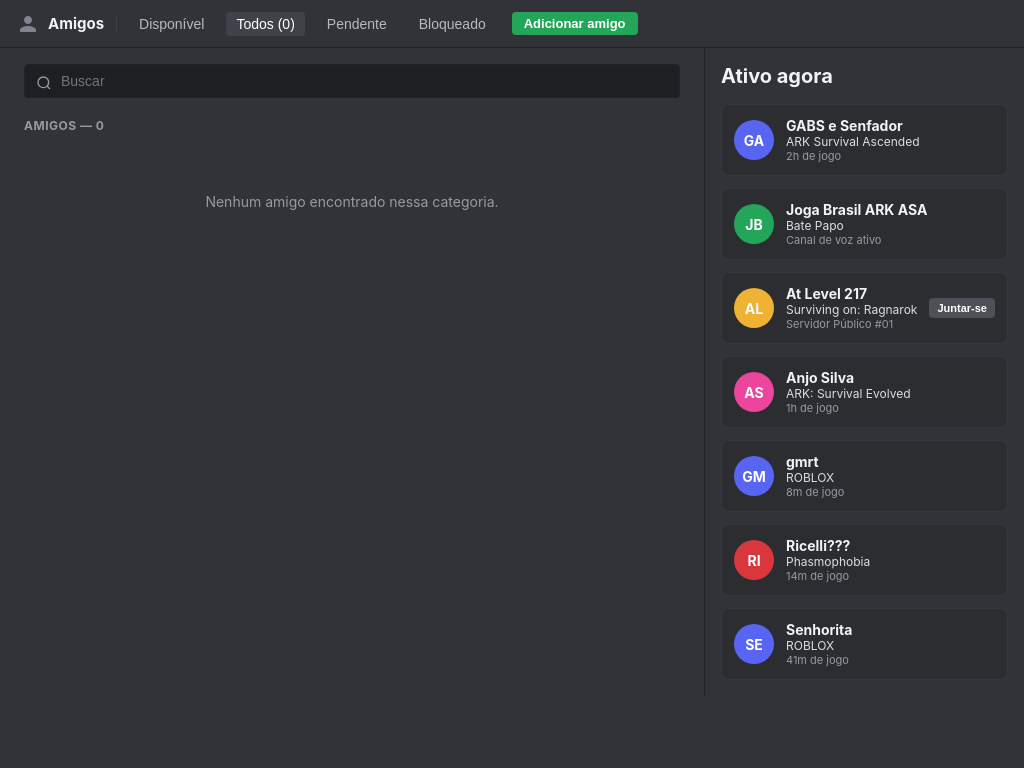
Test: amizades e navegação por teclado › mostra erro da sugestão de amizade e permite tentar novamente
The width and height of the screenshot is (1024, 768).
Click the button with test id "tab-friends-add" at (575,24), box left=512, top=12, right=638, bottom=35
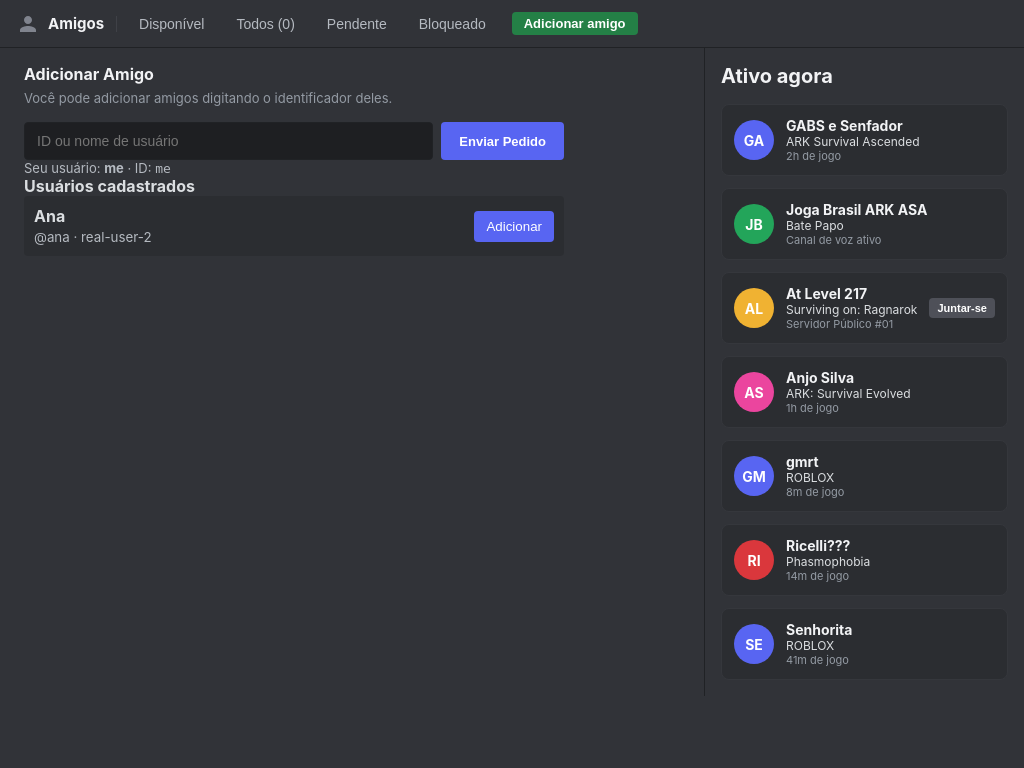
Click the button with aria-label "Adicionar Ana" at (514,226), box left=474, top=210, right=554, bottom=242
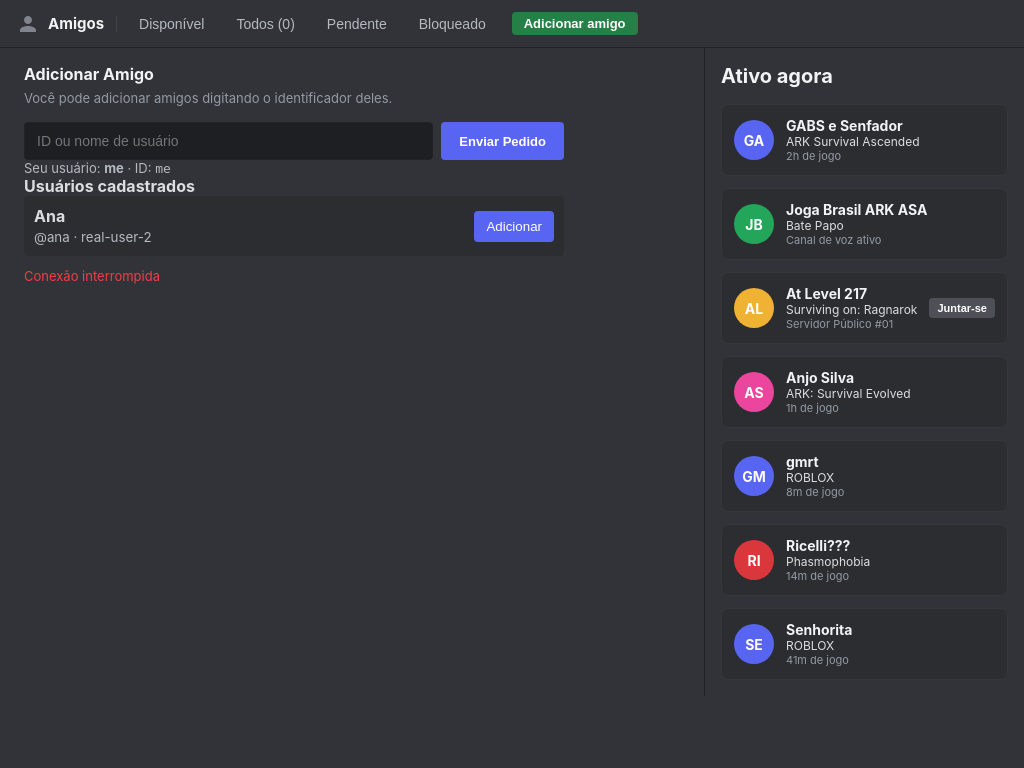
Now the button with aria-label "Adicionar Ana" is enabled, box left=474, top=210, right=554, bottom=242
Now the button with aria-label "Adicionar Ana" reads "Adicionar", box left=474, top=210, right=554, bottom=242
Now the message "Conexão interrompida" is shown, box left=24, top=268, right=160, bottom=284
